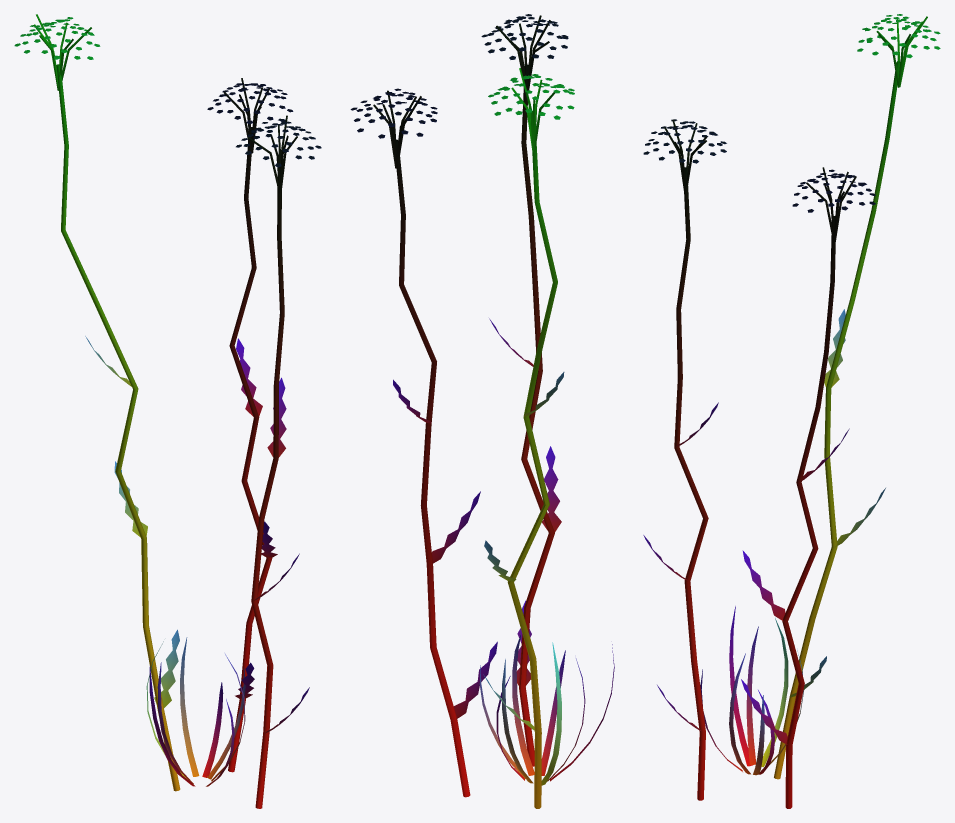
The model's file is SM_Flower_Yarrow_A.fbx.
3 views of the same model, side by side, from view 1: azimuth 30°, elevation 25°; view 2: azimuth 150°, elevation 25°; view 3: azimuth 270°, elevation 25° (orthographic). The views are drawn at different scales.
Parts seen in each view (by area): view 1: SM_Flower_Yarrow_A; view 2: SM_Flower_Yarrow_A; view 3: SM_Flower_Yarrow_A.
Boxes of the visible parts, x1,y1,x2,y2 form: SM_Flower_Yarrow_A: (14, 14, 321, 808); SM_Flower_Yarrow_A: (350, 14, 614, 808); SM_Flower_Yarrow_A: (643, 14, 940, 808).
Bounding box in the file's own units: 0.192 × 0.5809 × 0.214.
